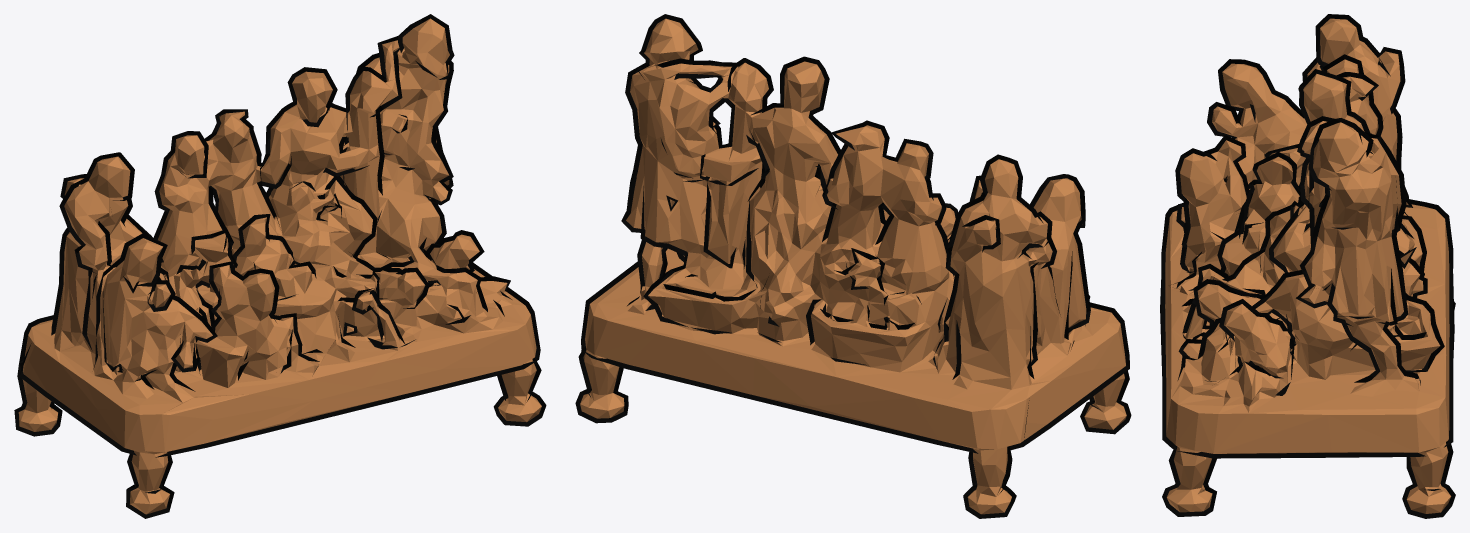
The model's file is les-gens-du-port.glb.
3 views of the same model, side by side, from view 1: azimuth 30°, elevation 25°; view 2: azimuth 150°, elevation 25°; view 3: azimuth 270°, elevation 25° (orthographic). The views are drawn at different scales.
Visible parts, largest first — view 1: Mesh1.004; view 2: Mesh1.004; view 3: Mesh1.004.
Boxes of the visible parts, left/top/right/bottom form: Mesh1.004: left=14, top=14, right=546, bottom=518; Mesh1.004: left=575, top=14, right=1131, bottom=518; Mesh1.004: left=1160, top=14, right=1455, bottom=518.
Bounding box in the file's own units: 3.07 × 2.49 × 1.75.
